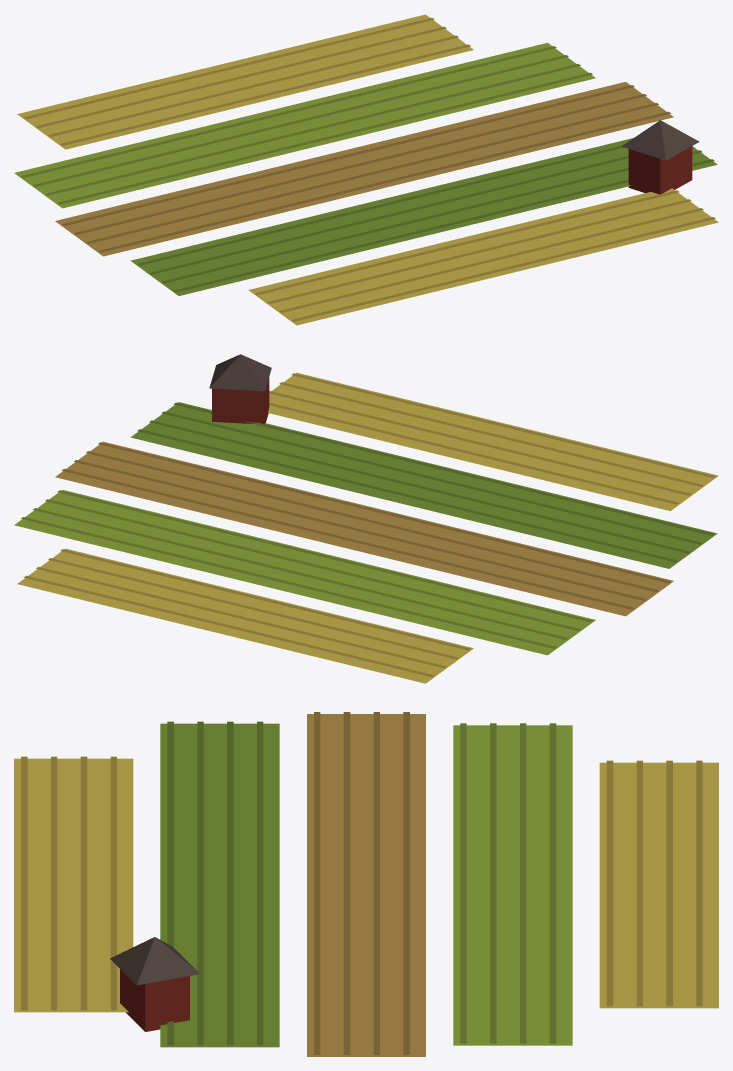
The model's file is Farm.glb.
3 views of the same model, one above another, from view 1: azimuth 30°, elevation 25°; view 2: azimuth 150°, elevation 25°; view 3: azimuth 270°, elevation 25° (orthographic). The views are drawn at different scales.
Parts seen in each view (by area): view 1: Farm; view 2: Farm; view 3: Farm.
Part boxes in pixels (left/top/right/bottom): Farm: left=14, top=14, right=718, bottom=325; Farm: left=14, top=354, right=718, bottom=683; Farm: left=14, top=712, right=718, bottom=1056.
Size of the model in its own units: 1.5 by 0.16 by 1.3.
